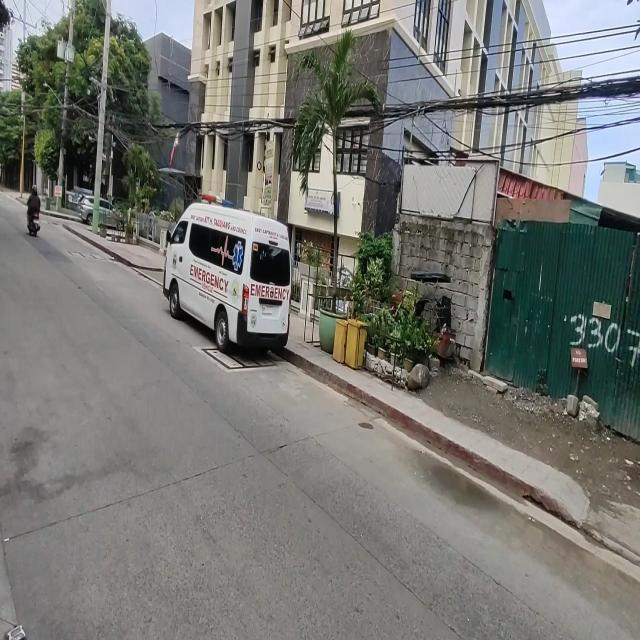emergency-vehicle: (146, 186, 304, 374), (183, 259, 234, 300), (250, 276, 292, 312)
